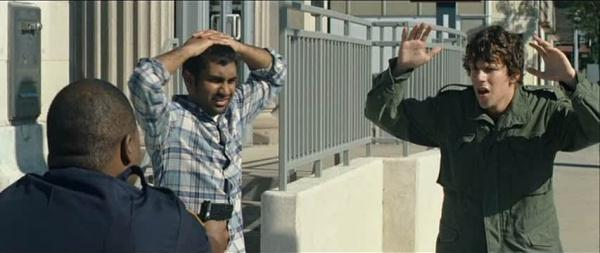Gun: (198, 200, 234, 223)
